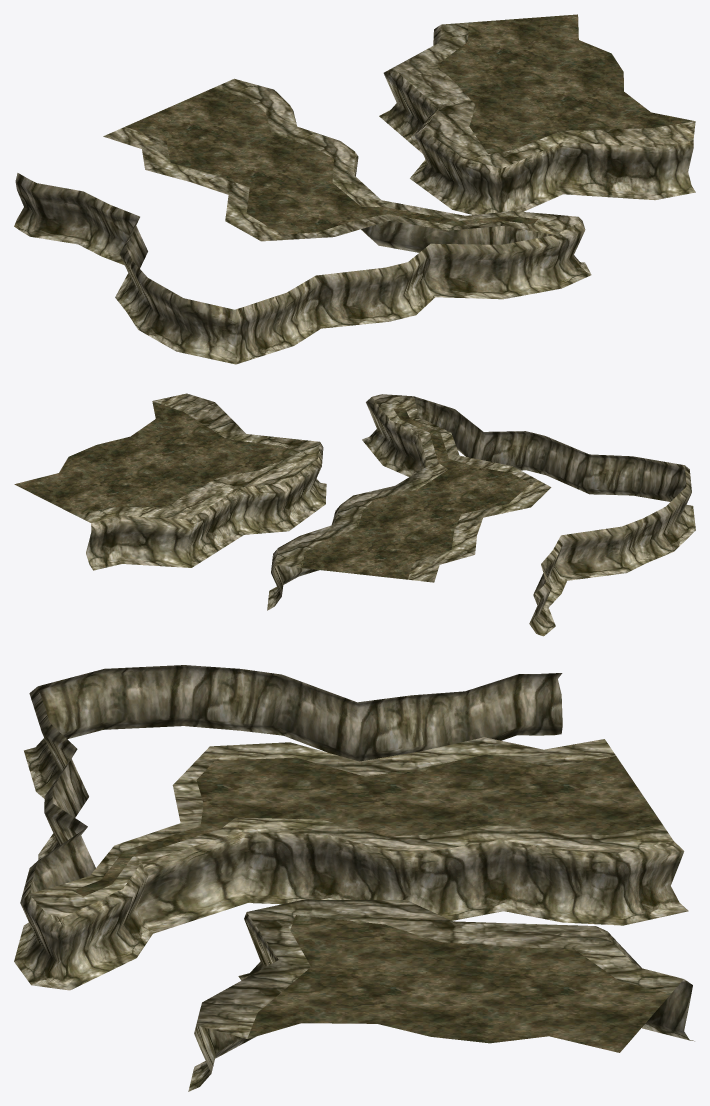
File: CB_NEWPLAYSURFACE_CB_PLAYSURFACE89.fbx
3 views of the same model, one above another, from view 1: azimuth 30°, elevation 25°; view 2: azimuth 150°, elevation 25°; view 3: azimuth 270°, elevation 25° (orthographic). The views are drawn at different scales.
Visible parts, largest first — view 1: CB_NEWPLAYSURFACE_CB_PLAYSURFACE89; view 2: CB_NEWPLAYSURFACE_CB_PLAYSURFACE89; view 3: CB_NEWPLAYSURFACE_CB_PLAYSURFACE89.
Boxes of the visible parts, x1,y1,x2,y2 form: CB_NEWPLAYSURFACE_CB_PLAYSURFACE89: [14, 14, 695, 364]; CB_NEWPLAYSURFACE_CB_PLAYSURFACE89: [14, 393, 695, 636]; CB_NEWPLAYSURFACE_CB_PLAYSURFACE89: [14, 665, 694, 1091].
Size of the model in its own units: 446390 by 35822 by 326329.
3 materials, 3 textured.
